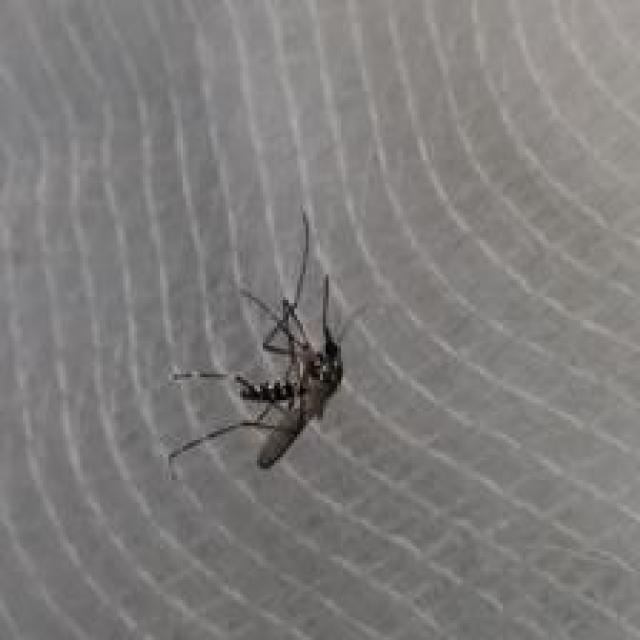Aedes albopictus: (166, 206, 346, 480)
